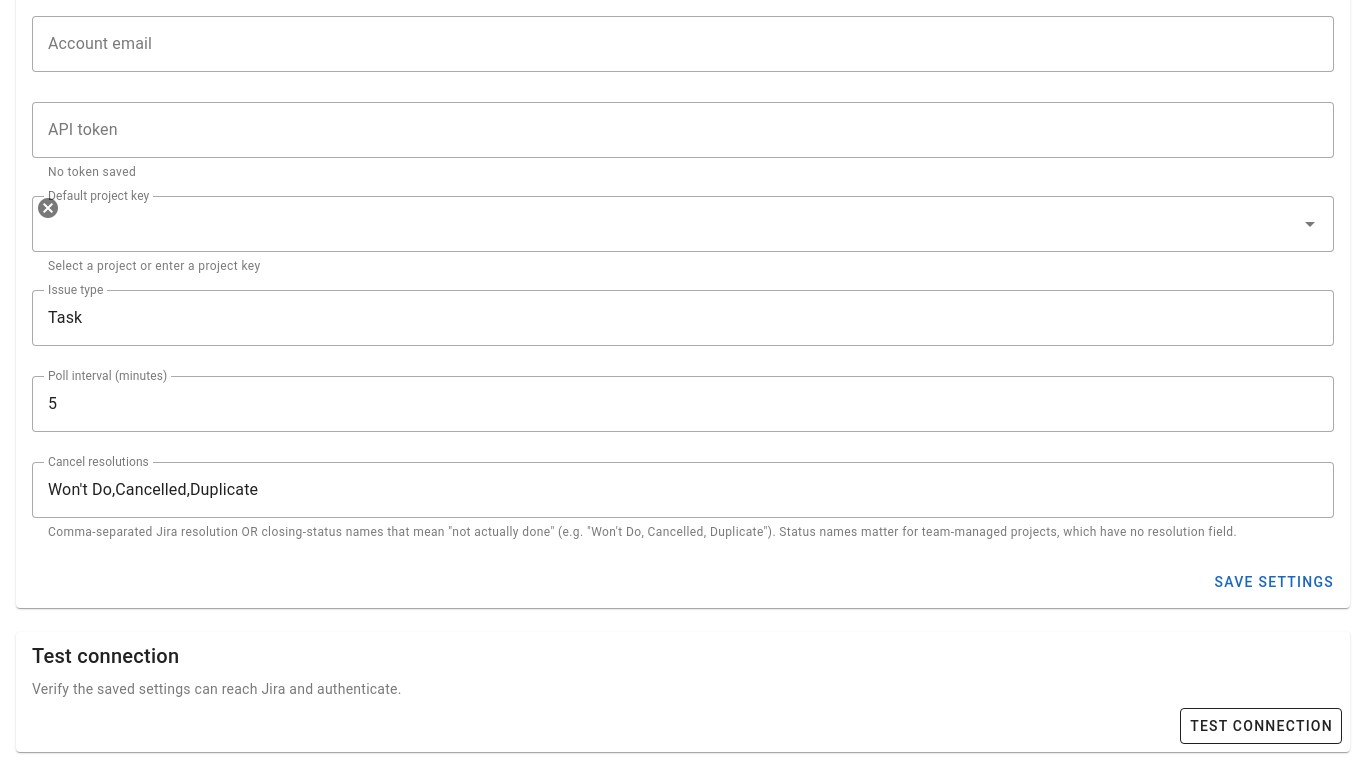
Test: JiraSettingsPage › connection test › sends a test and surfaces a success result
The image size is (1366, 768).
(page scrolled)
Click the button "Test connection" at (1261, 726), box [1180, 708, 1342, 744]
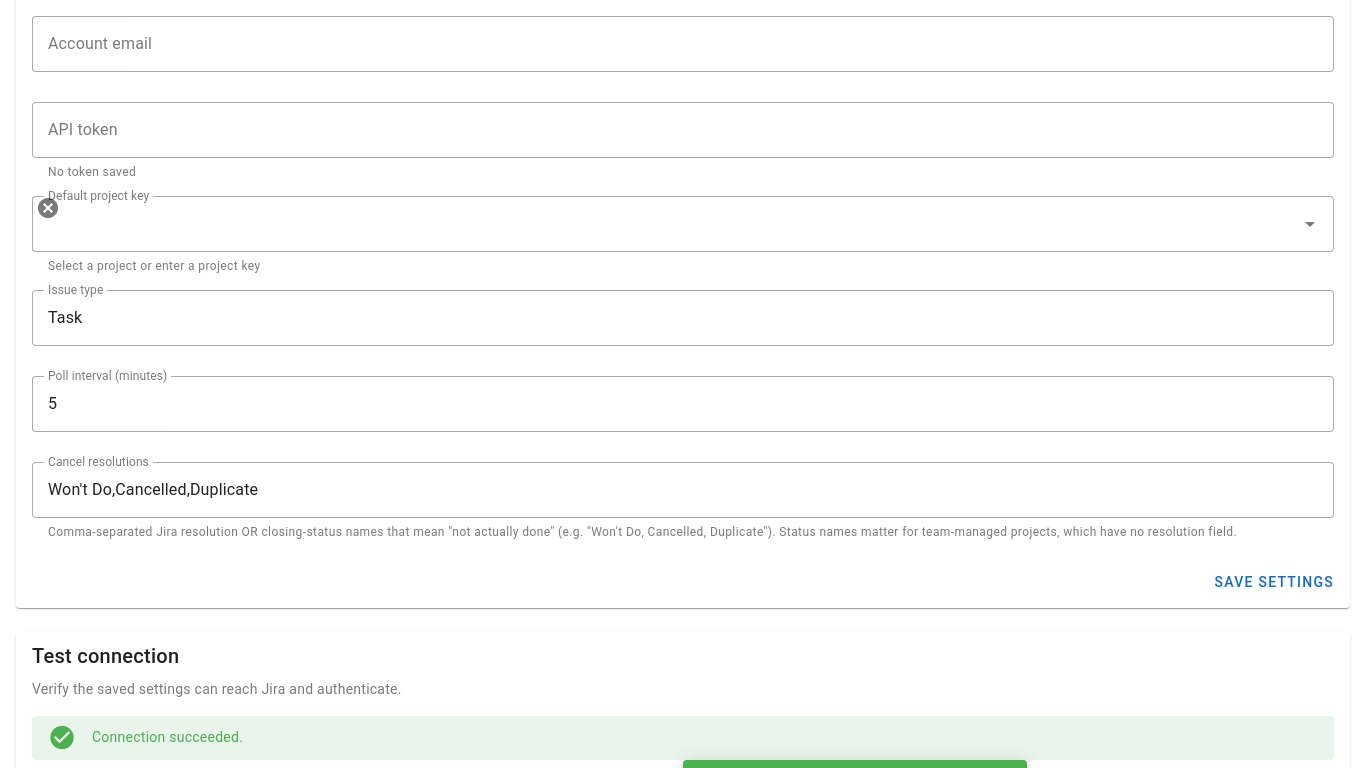
Result: the text "Connection succeeded." is shown at [92, 729, 243, 745]
